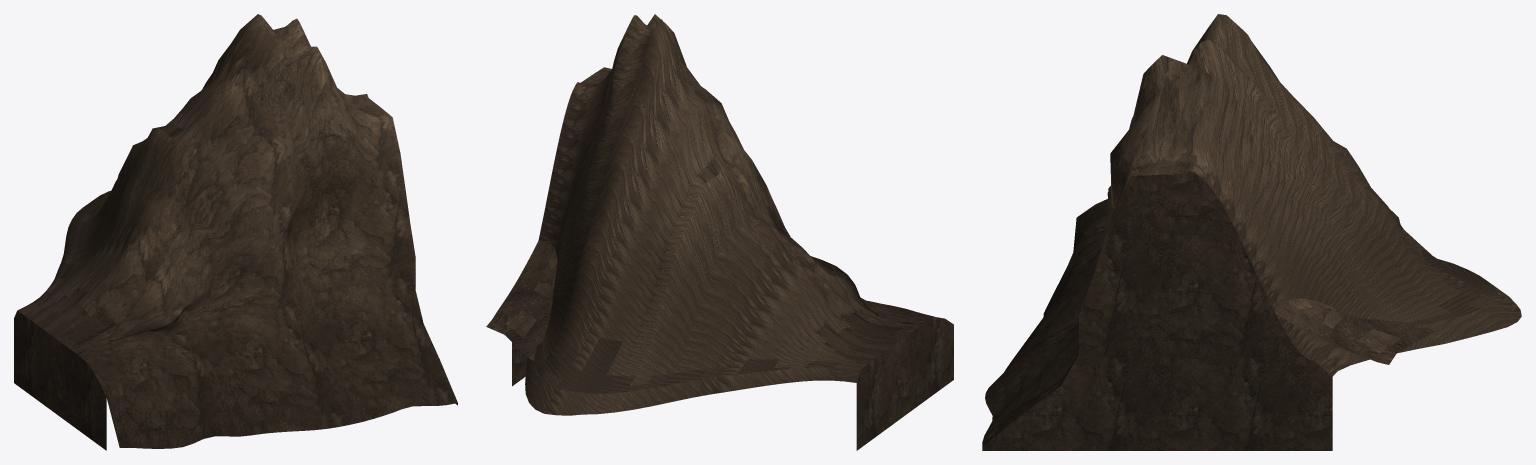
Rendered from seacliff_endcap_left_h3_b_v5_dead.glb.
3 renders of one model, left to right at view 1: azimuth 30°, elevation 25°; view 2: azimuth 150°, elevation 25°; view 3: azimuth 270°, elevation 25°, orthographic. The views are drawn at different scales.
Visible parts, largest first — view 1: seacliff_endcap_left_h3_b; view 2: seacliff_endcap_left_h3_b; view 3: seacliff_endcap_left_h3_b.
Boxes of the visible parts, <box> form: seacliff_endcap_left_h3_b: <box>14,14,457,450</box>; seacliff_endcap_left_h3_b: <box>486,14,953,450</box>; seacliff_endcap_left_h3_b: <box>982,14,1521,450</box>.
Size of the model in its own units: 6 by 6.25 by 7.92.
Materials: 2 (2 with a texture image).
